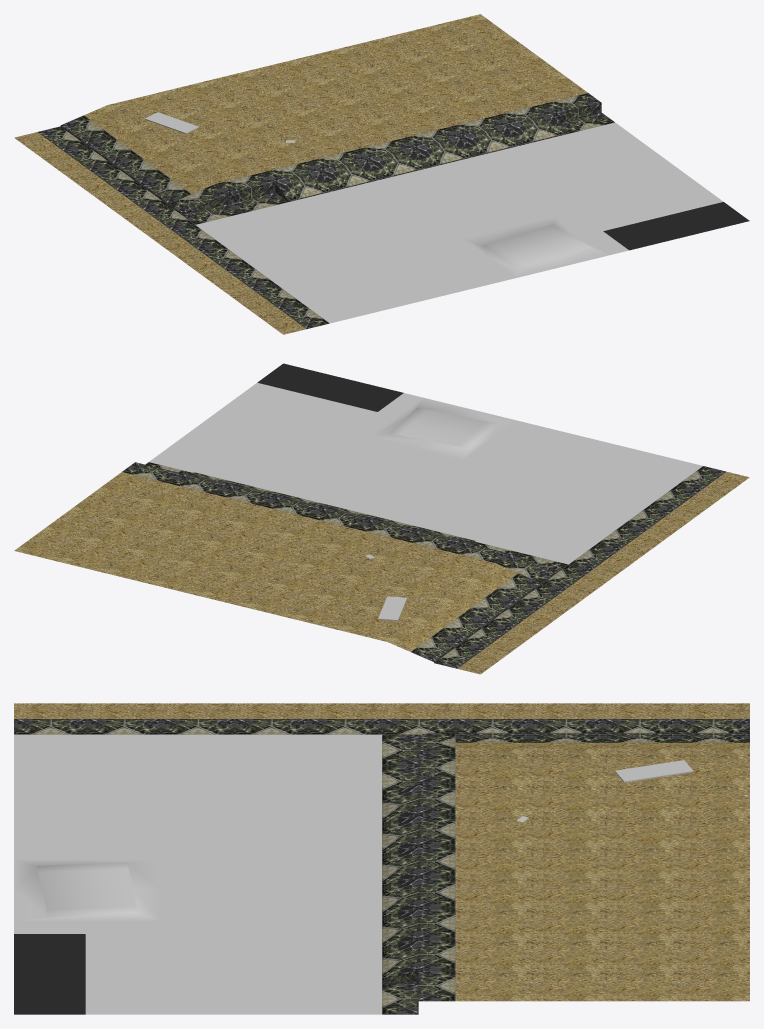
3 views of the same model, one above another, from view 1: azimuth 30°, elevation 25°; view 2: azimuth 150°, elevation 25°; view 3: azimuth 270°, elevation 25° (orthographic). The views are drawn at different scales.
Visible parts, largest first — view 1: Joint_0_Object_2, Joint_0_Object_3, Joint_0_Object_1, Joint_0_Object_4, Joint_0_Object_0; view 2: Joint_0_Object_2, Joint_0_Object_3, Joint_0_Object_1, Joint_0_Object_4, Joint_0_Object_0; view 3: Joint_0_Object_2, Joint_0_Object_3, Joint_0_Object_1, Joint_0_Object_4, Joint_0_Object_0.
Part boxes in pixels (x1=…): Joint_0_Object_2: x1=196, y1=122, x2=749, y2=323; Joint_0_Object_3: x1=14, y1=14, x2=587, y2=334; Joint_0_Object_1: x1=38, y1=93, x2=614, y2=328; Joint_0_Object_4: x1=481, y1=224, x2=591, y2=269; Joint_0_Object_0: x1=145, y1=112, x2=295, y2=142; Joint_0_Object_2: x1=149, y1=363, x2=702, y2=564; Joint_0_Object_3: x1=14, y1=471, x2=749, y2=674; Joint_0_Object_1: x1=122, y1=462, x2=725, y2=668; Joint_0_Object_4: x1=389, y1=407, x2=497, y2=449; Joint_0_Object_0: x1=366, y1=554, x2=407, y2=620; Joint_0_Object_2: x1=14, y1=734, x2=381, y2=1014; Joint_0_Object_3: x1=14, y1=703, x2=749, y2=1001; Joint_0_Object_1: x1=14, y1=719, x2=749, y2=1014; Joint_0_Object_4: x1=36, y1=862, x2=138, y2=917; Joint_0_Object_0: x1=516, y1=760, x2=693, y2=822.
Size of the model in its own units: 10000 by 219 by 10000.
